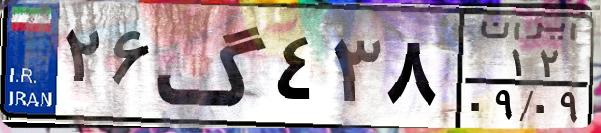0: (470, 70, 495, 125), (535, 70, 560, 125)
1: (508, 27, 537, 80)
2: (57, 26, 110, 100), (537, 27, 568, 80)
3: (330, 28, 385, 110)
4: (270, 28, 330, 110)
6: (110, 28, 156, 98)
8: (385, 28, 445, 110)
9: (560, 70, 590, 125), (495, 70, 520, 125)
گ: (156, 12, 270, 120)
